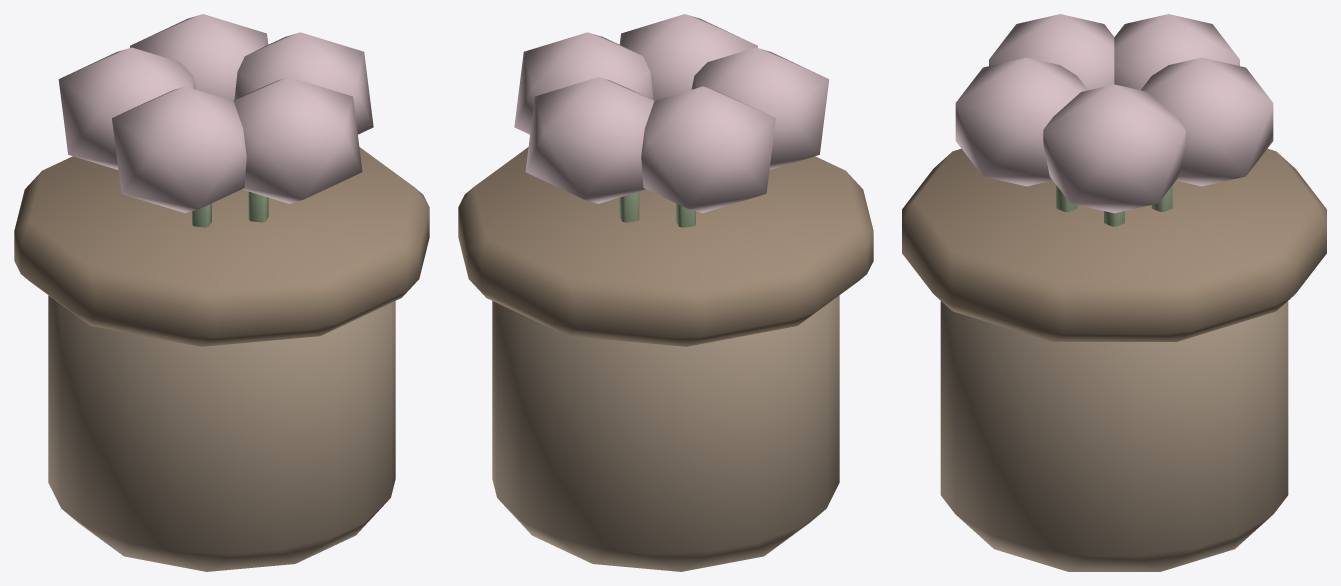
File: prop_flowerpot.glb
The picture shows the model from 3 angles, left to right: view 1: azimuth 30°, elevation 25°; view 2: azimuth 150°, elevation 25°; view 3: azimuth 270°, elevation 25°; orthographic projection.
Parts seen in each view (by area): view 1: prop_flowerpot; view 2: prop_flowerpot; view 3: prop_flowerpot.
Part boxes in pixels (x1=…): prop_flowerpot: x1=14, y1=14, x2=429, y2=571; prop_flowerpot: x1=458, y1=14, x2=873, y2=571; prop_flowerpot: x1=902, y1=14, x2=1326, y2=571.
Size of the model in its own units: 0.4945 by 0.615 by 0.5076.
